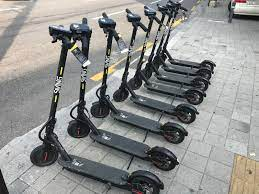kick_handler: (71, 17, 92, 49), (98, 13, 119, 40), (47, 24, 71, 47), (126, 9, 146, 31), (144, 6, 161, 23)
kick_neck: (44, 50, 66, 133), (102, 44, 112, 93), (80, 46, 87, 110), (126, 35, 136, 77)
kick_wheel: (131, 170, 162, 194), (152, 147, 176, 171), (32, 145, 57, 166), (163, 122, 184, 144), (68, 120, 89, 138), (177, 105, 196, 124), (90, 102, 110, 118), (186, 89, 204, 105), (114, 88, 128, 101), (195, 77, 208, 89), (130, 78, 141, 89)
